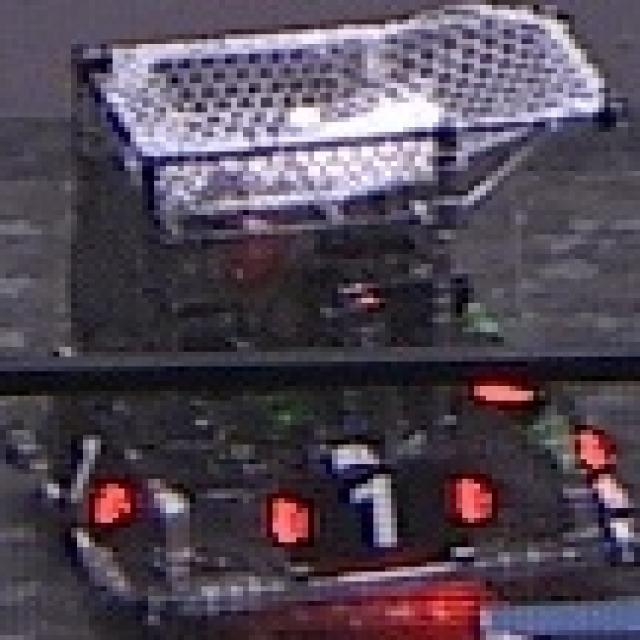R1: (261, 464, 492, 547)
